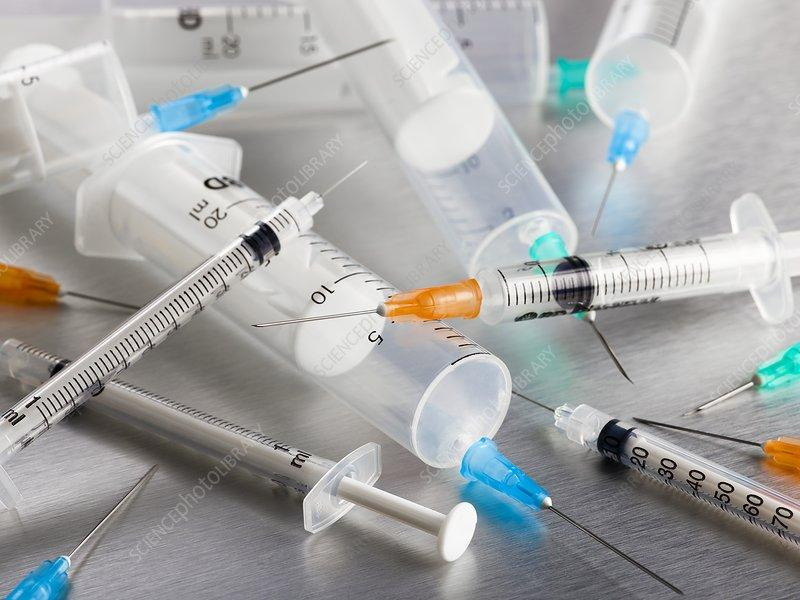Syringe: (0, 192, 322, 464), (307, 0, 576, 274), (87, 380, 476, 560), (87, 381, 475, 560), (0, 40, 389, 193), (377, 194, 799, 324), (554, 404, 799, 543), (586, 0, 719, 234), (140, 39, 390, 131), (103, 0, 332, 96), (633, 417, 799, 468), (683, 343, 799, 415), (0, 263, 138, 309), (574, 310, 632, 382)
